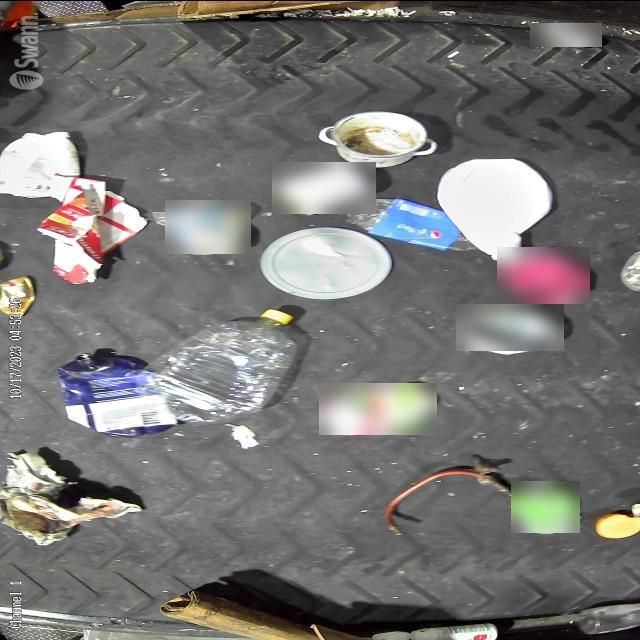plastic_bottle: (153, 307, 300, 422), (344, 194, 466, 250)
